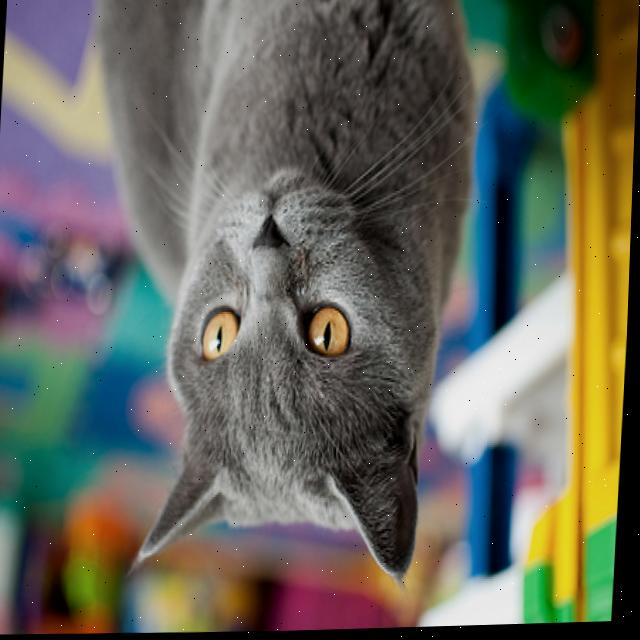British Shorthair: (63, 0, 485, 601)
